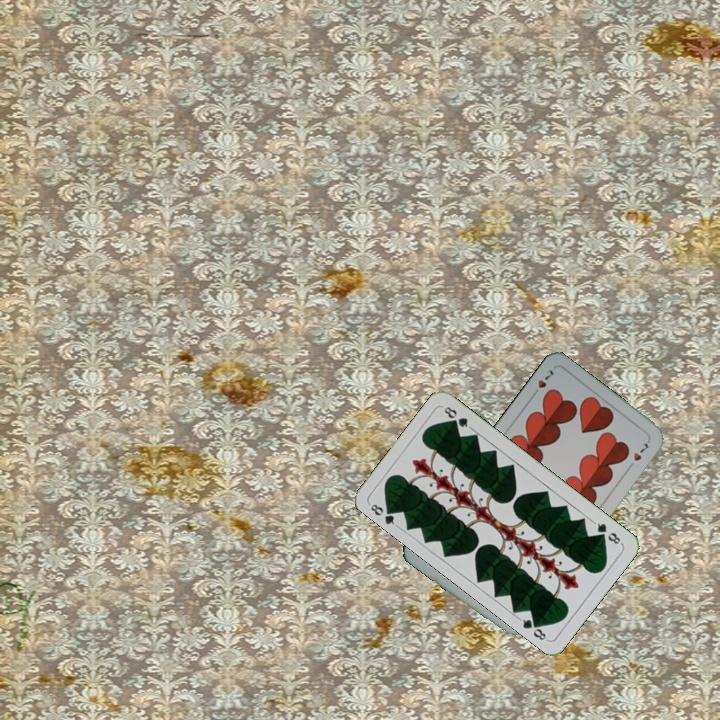G8: (365, 500, 400, 529), (590, 518, 624, 547)
H7: (528, 365, 556, 400)
